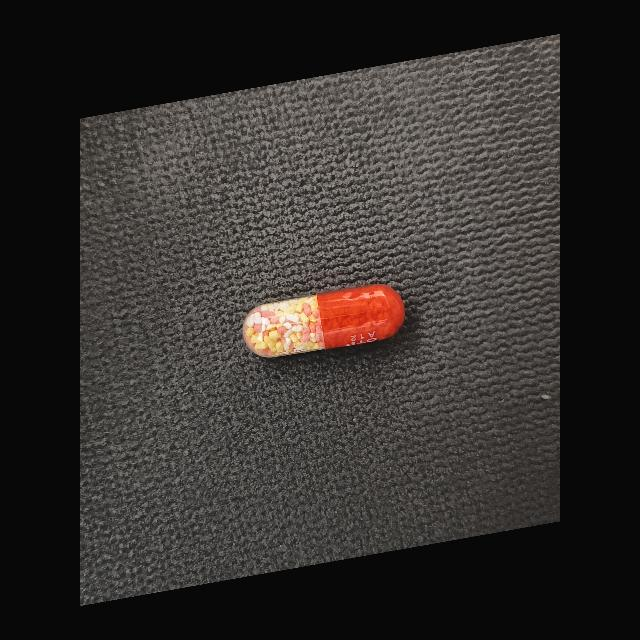Intact Capsule: (242, 284, 405, 358)
